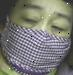with_mask: (1, 2, 73, 75)
